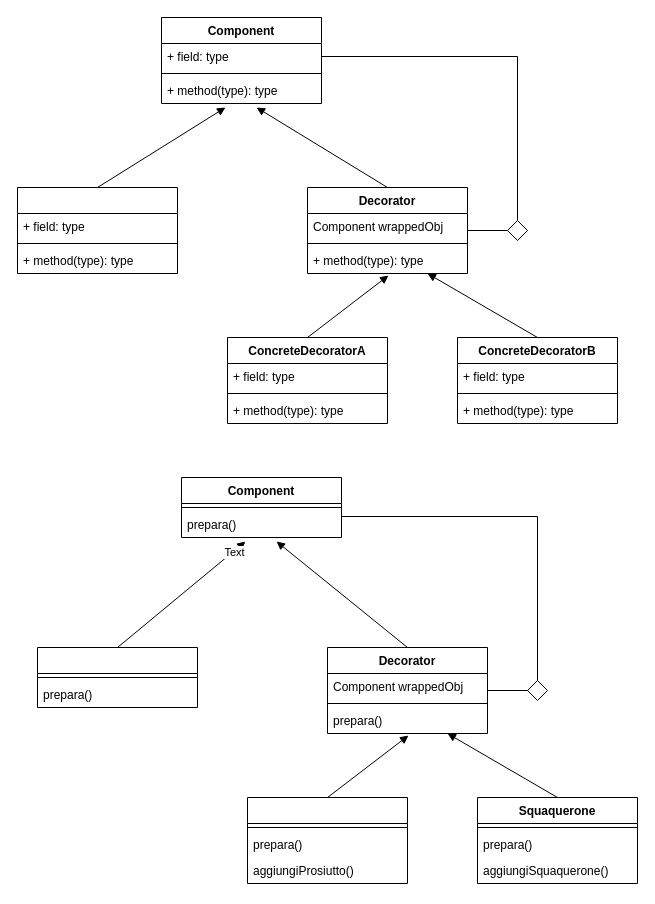
This 655x904 diagram has some shape labels left out. Here are the shapes that lost their labels. From the top down, the box of each, then its label:
(16, 186, 178, 274): ConcreteComponent
(36, 646, 198, 708): Piadina
(246, 796, 408, 884): Prosciutto
